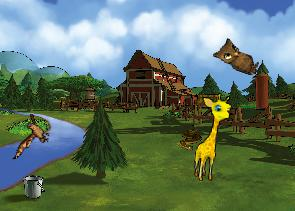eagle: (12, 112, 51, 161)
giraffe: (192, 91, 233, 184)
owl: (211, 35, 264, 76)
